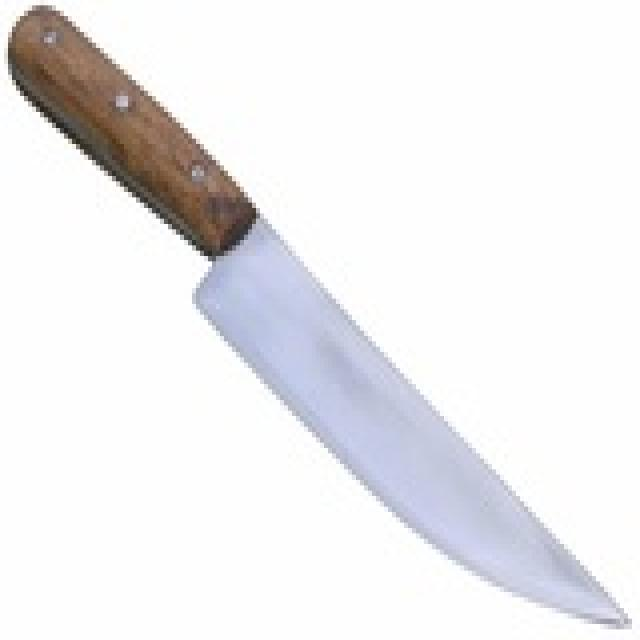Knife: (5, 14, 636, 631)
